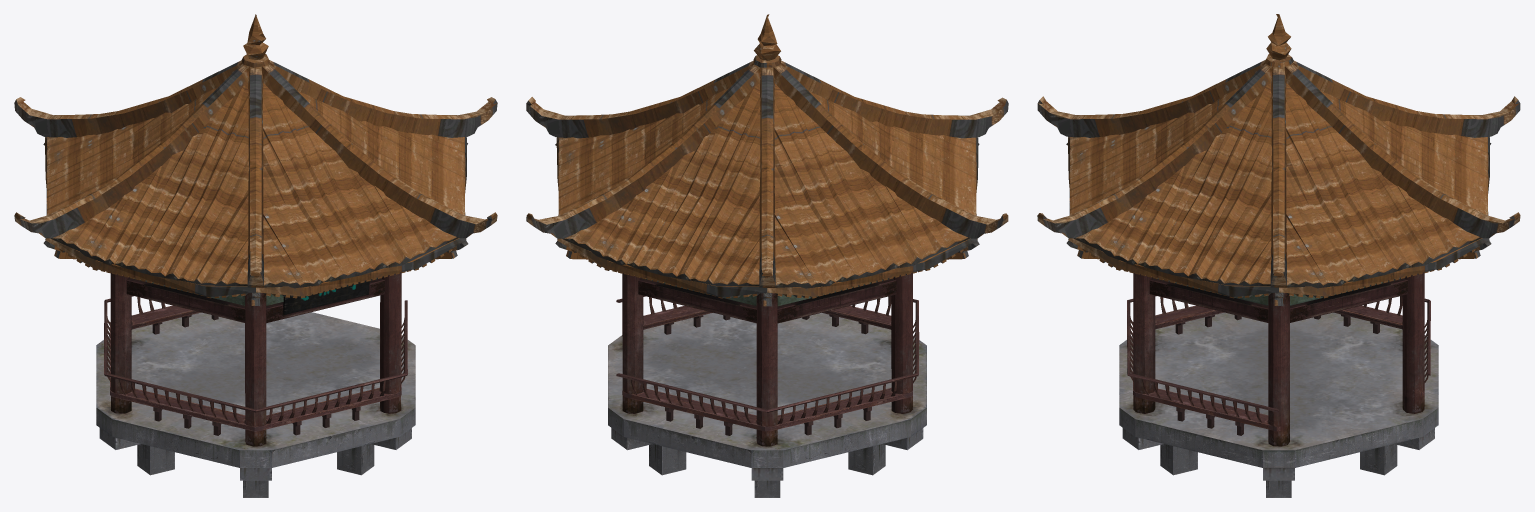
File: M_cp_xiaoyuan_zuiwanting_01.fbx
3 views of the same model, side by side, from view 1: azimuth 30°, elevation 25°; view 2: azimuth 150°, elevation 25°; view 3: azimuth 270°, elevation 25° (orthographic).
Parts seen in each view (by area): view 1: M_cp_xiaoyuan_zuiwanting_01.mo; view 2: M_cp_xiaoyuan_zuiwanting_01.mo; view 3: M_cp_xiaoyuan_zuiwanting_01.mo.
Boxes of the visible parts, bbox=[...] form: M_cp_xiaoyuan_zuiwanting_01.mo: bbox=[14, 14, 497, 497]; M_cp_xiaoyuan_zuiwanting_01.mo: bbox=[526, 14, 1008, 497]; M_cp_xiaoyuan_zuiwanting_01.mo: bbox=[1037, 14, 1520, 497].
Bounding box in the file's own units: 1336 × 1147 × 1170.
